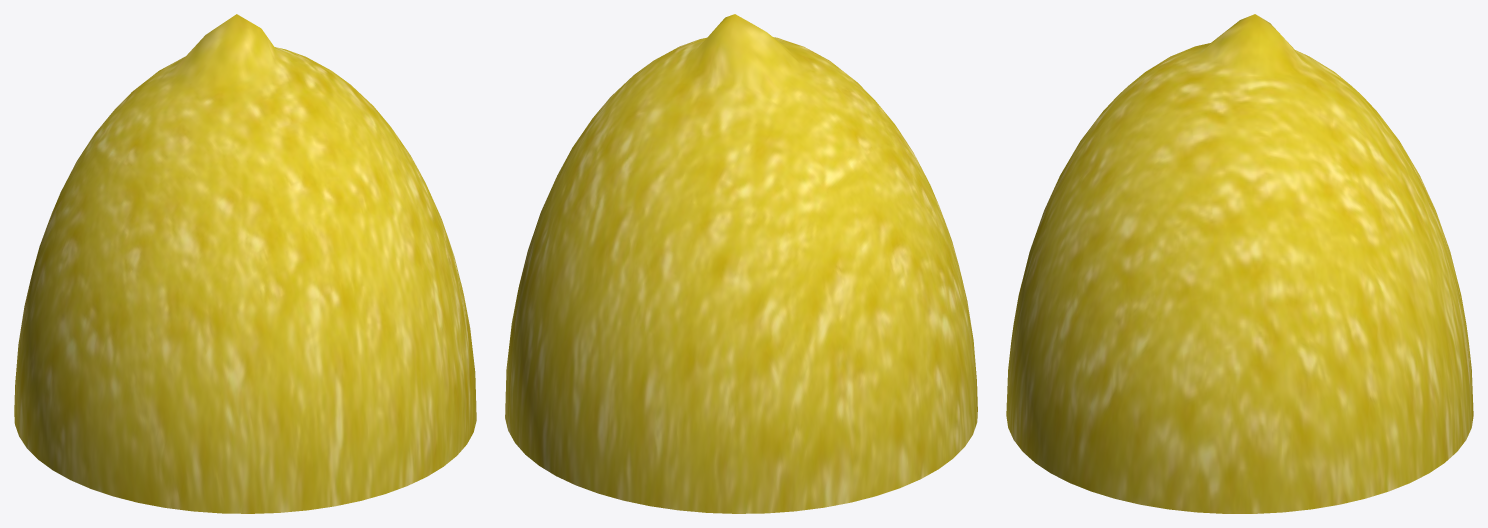
Rendered from lemonld8.obj.
3 views of the same model, side by side, from view 1: azimuth 30°, elevation 25°; view 2: azimuth 150°, elevation 25°; view 3: azimuth 270°, elevation 25° (orthographic). The views are drawn at different scales.
Visible parts, largest first — view 1: GeoSphere02; view 2: GeoSphere02; view 3: GeoSphere02.
Boxes of the visible parts, bbox=[...] form: GeoSphere02: bbox=[14, 14, 476, 513]; GeoSphere02: bbox=[505, 14, 977, 513]; GeoSphere02: bbox=[1006, 14, 1473, 513].
Size of the model in its own units: 95.84 by 90.88 by 96.03.
1 material, 1 textured.
